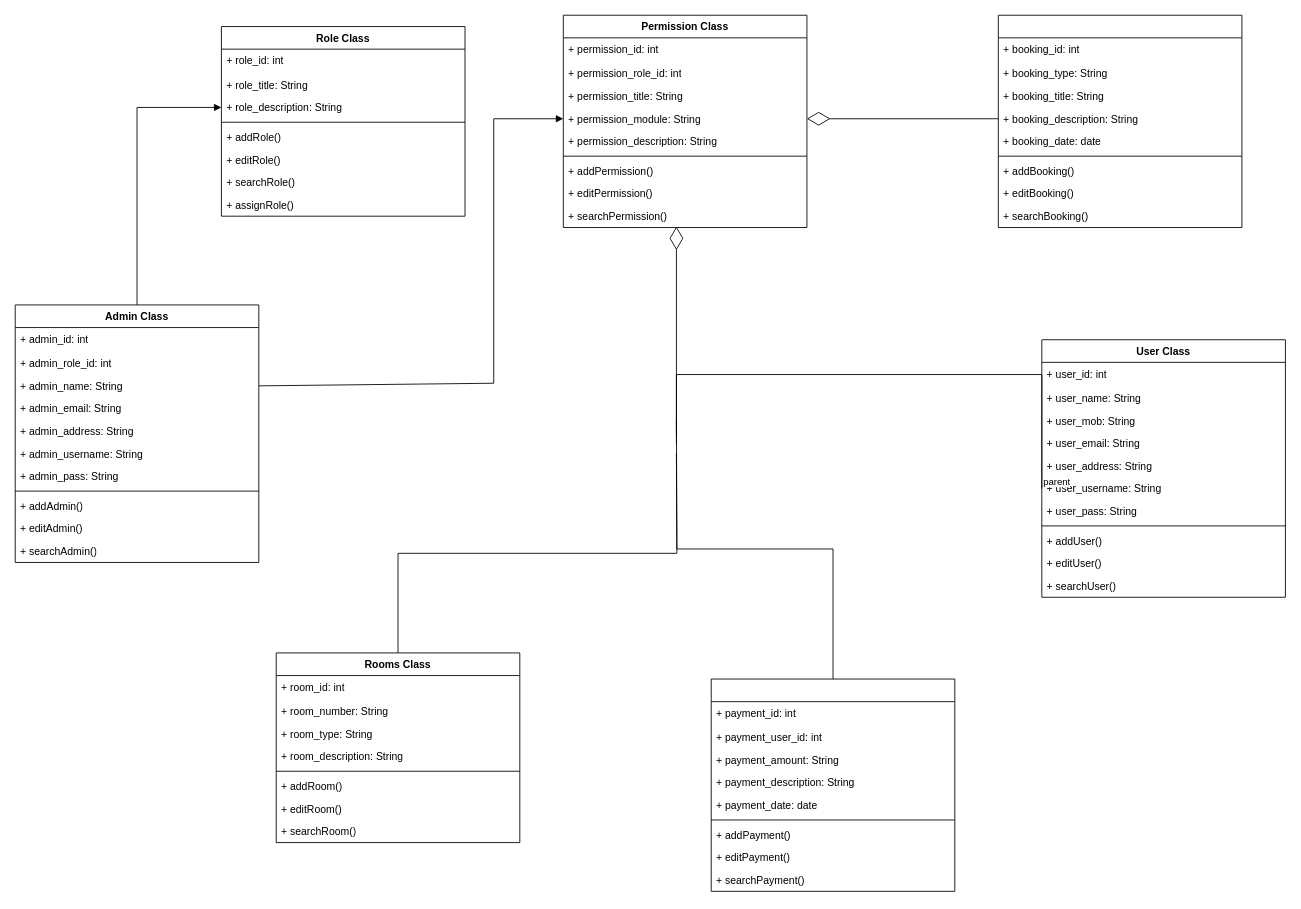
Some shapes in this 1301 by 909 pixel diagram are drawn without their labels. Here are the shapes that lost their labels. From the top down, the box of each, then its label:
(997, 14, 1242, 228): Booking Class
(710, 678, 955, 891): Payment Class
